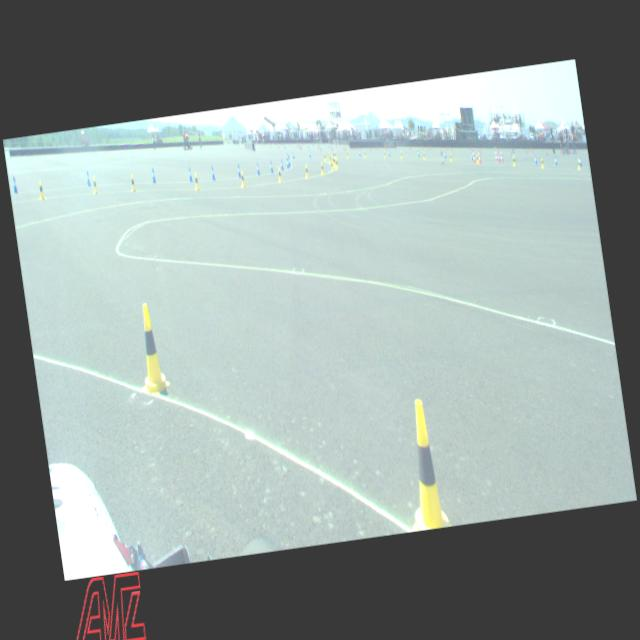blue_cone: (12, 176, 19, 194), (85, 170, 91, 187), (150, 167, 156, 183), (210, 166, 216, 180), (236, 164, 242, 178), (188, 166, 193, 182), (256, 162, 261, 175), (270, 160, 274, 172), (286, 158, 290, 169), (554, 155, 558, 166), (280, 160, 284, 170), (534, 155, 538, 165), (579, 156, 582, 167), (471, 152, 474, 160), (417, 149, 420, 157), (498, 154, 500, 162), (444, 150, 446, 158)
large_orange_cone: (499, 148, 504, 162), (478, 148, 482, 164), (472, 148, 476, 163), (494, 147, 498, 162)
yellow_cone: (394, 397, 450, 531), (131, 302, 172, 398), (38, 180, 46, 200), (193, 172, 200, 190), (130, 174, 136, 192), (92, 176, 98, 194), (240, 171, 246, 187), (276, 166, 282, 182), (304, 164, 309, 179), (576, 158, 582, 170), (320, 161, 324, 175), (335, 156, 339, 170), (330, 159, 334, 172), (540, 156, 544, 168), (512, 156, 516, 167), (448, 152, 452, 162), (476, 153, 479, 164), (333, 156, 336, 167), (422, 152, 426, 160), (328, 154, 331, 164), (400, 150, 403, 159), (383, 150, 386, 159), (346, 150, 349, 158), (324, 151, 326, 161), (332, 155, 334, 165), (364, 149, 366, 158)
